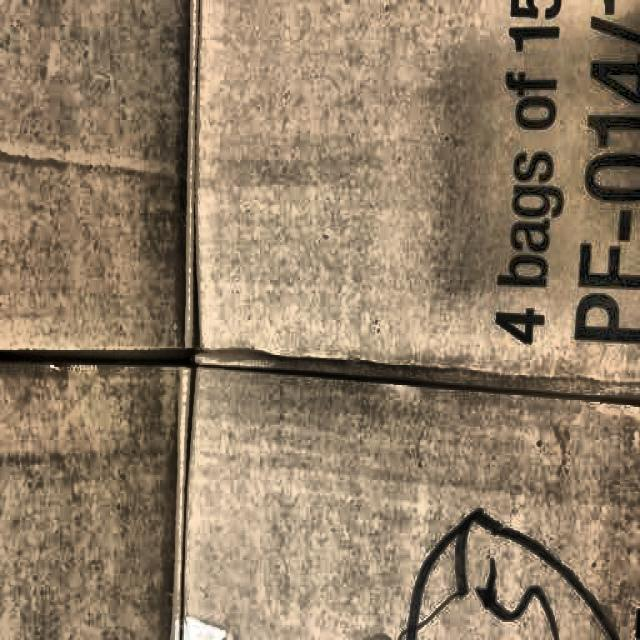cardboard: (4, 5, 600, 640)
